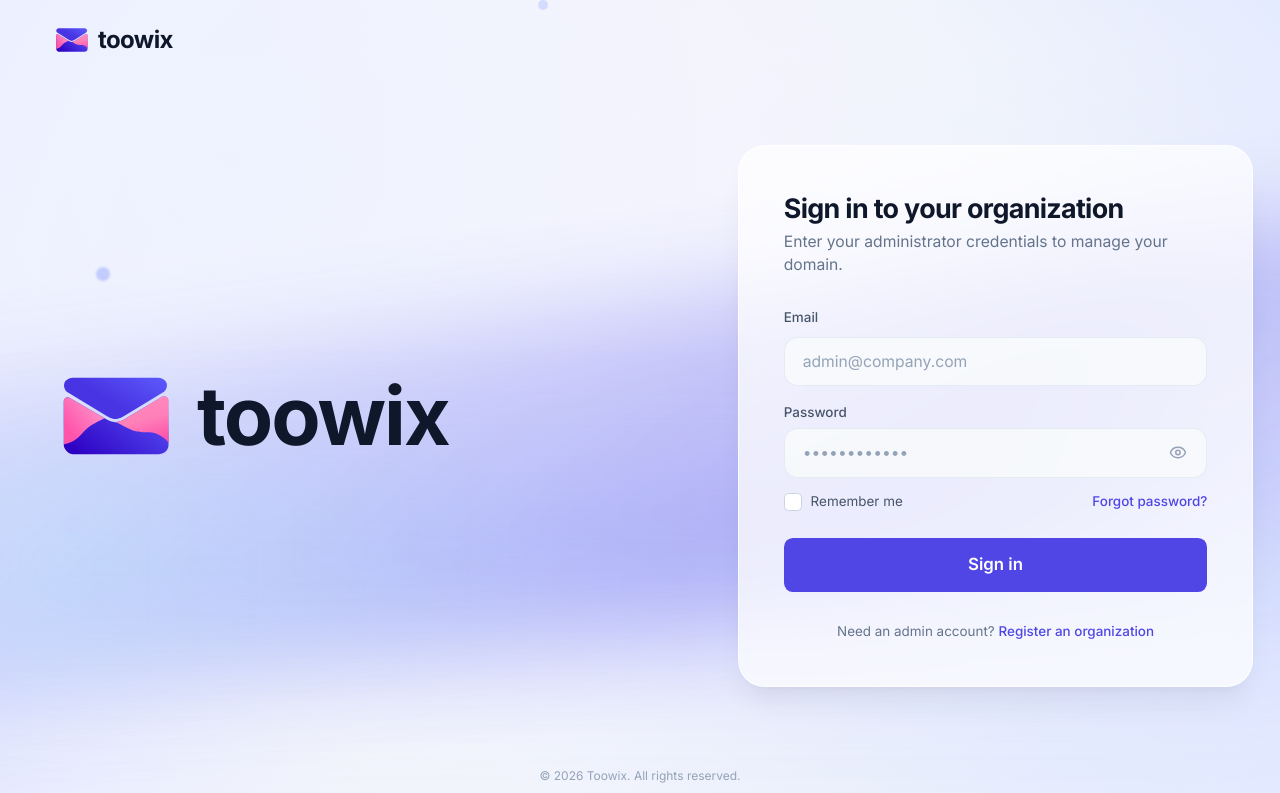
Test: TenantAdminLoginView Component › displays portal gating error when Super Admin account attempts tenant portal login
In the field with placeholder "admin@company.com": (996,361) x1=784 y1=336 x2=1207 y2=386, type "super@toowix.com"
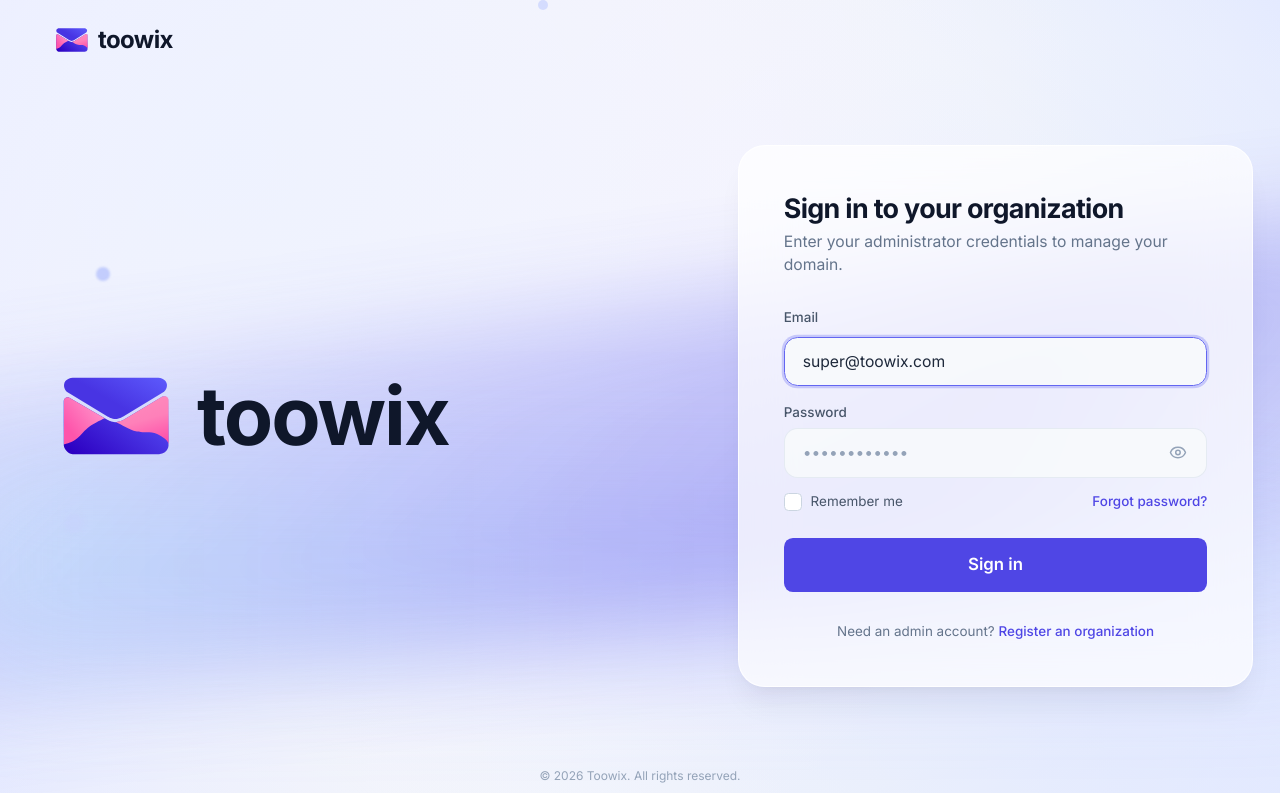
In the password field labelled "Password": (996,453) x1=784 y1=428 x2=1207 y2=478, type "SuperAdminPass123!"
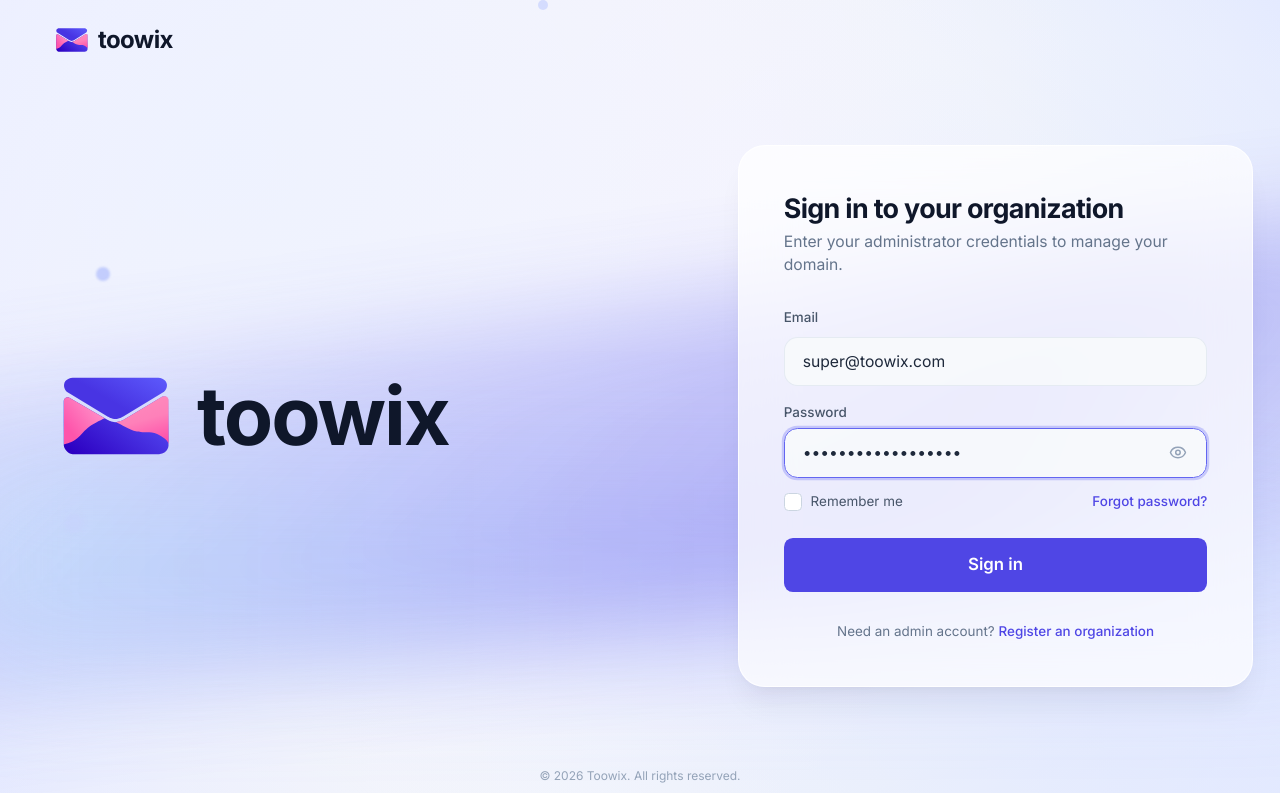
Submit the form "Sign in", box x1=784 y1=303 x2=1207 y2=641
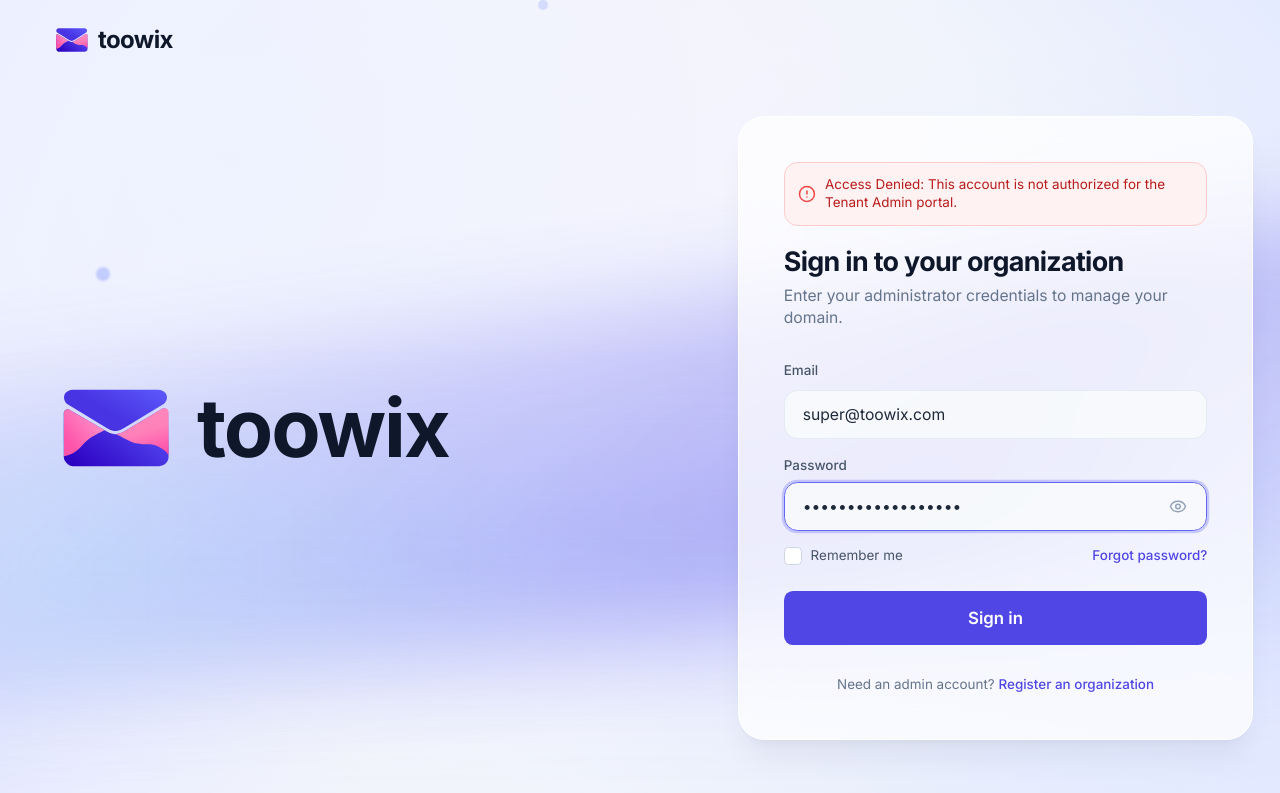
Expected: the text "Access Denied: This account is not authorized for the Tenant Admin portal" is shown, x1=825 y1=176 x2=1165 y2=210
